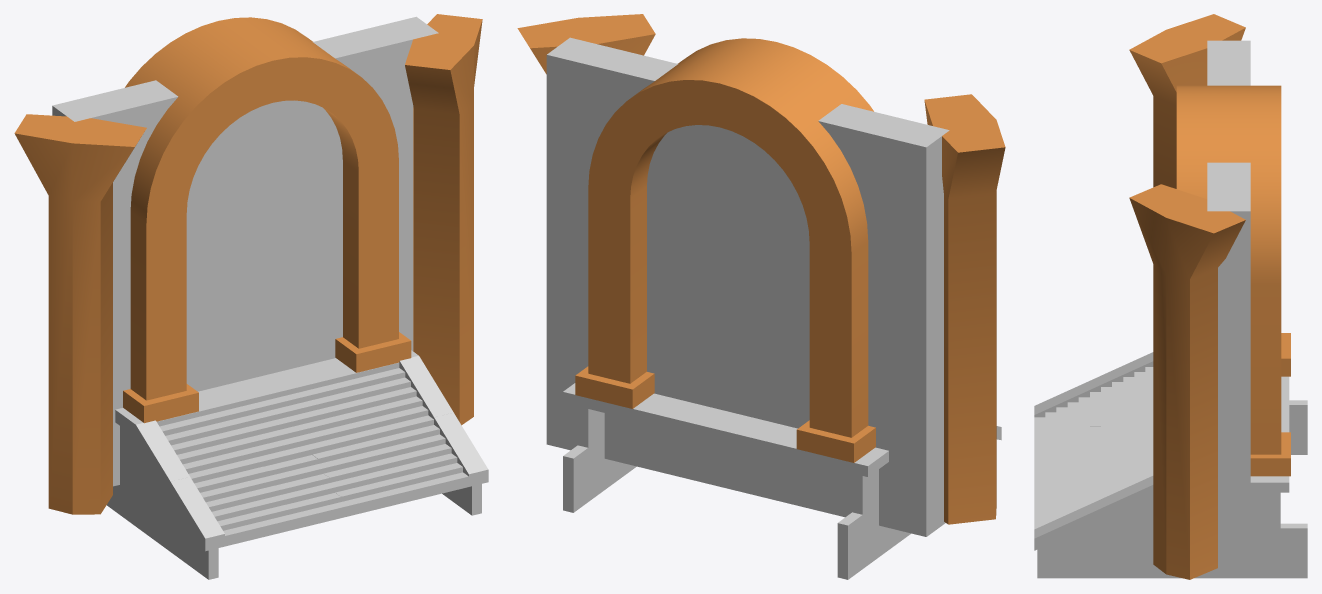
Rendered from prop_AbyssEntrance.fbx.
3 renders of one model, left to right at view 1: azimuth 30°, elevation 25°; view 2: azimuth 150°, elevation 25°; view 3: azimuth 270°, elevation 25°, orthographic. The views are drawn at different scales.
Parts seen in each view (by area): view 1: prop_AbyssEntrance; view 2: prop_AbyssEntrance; view 3: prop_AbyssEntrance.
Part boxes in pixels (box(x1,y1,x2,y2)): prop_AbyssEntrance: box(14, 14, 488, 579); prop_AbyssEntrance: box(517, 14, 1005, 579); prop_AbyssEntrance: box(1034, 14, 1307, 579).
Bounding box in the file's own units: 2407 × 2126 × 1267.
